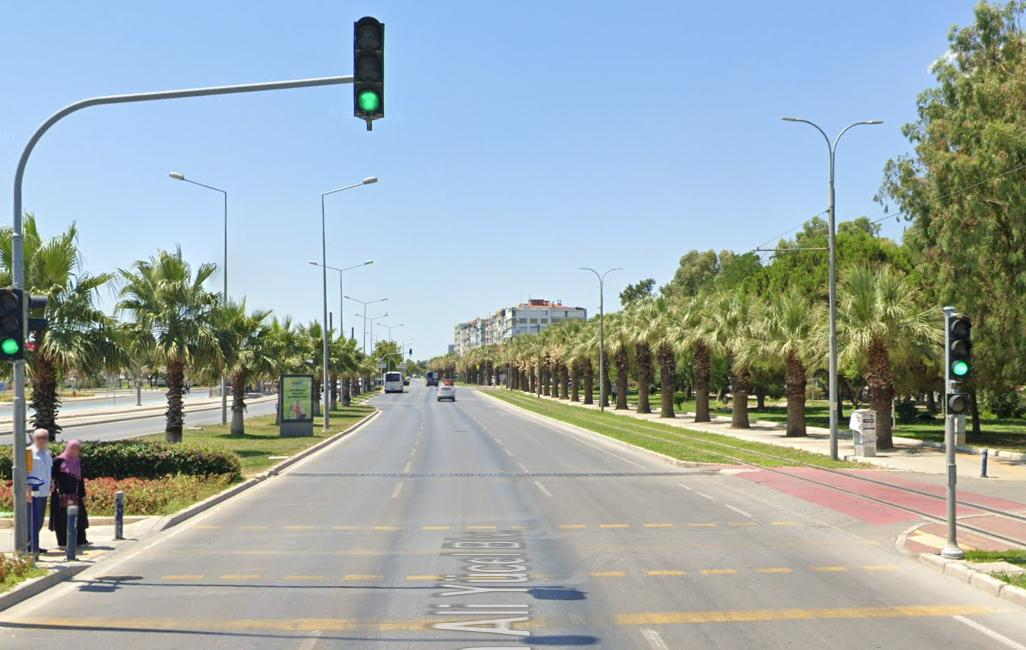greenlight: (352, 17, 385, 125)
